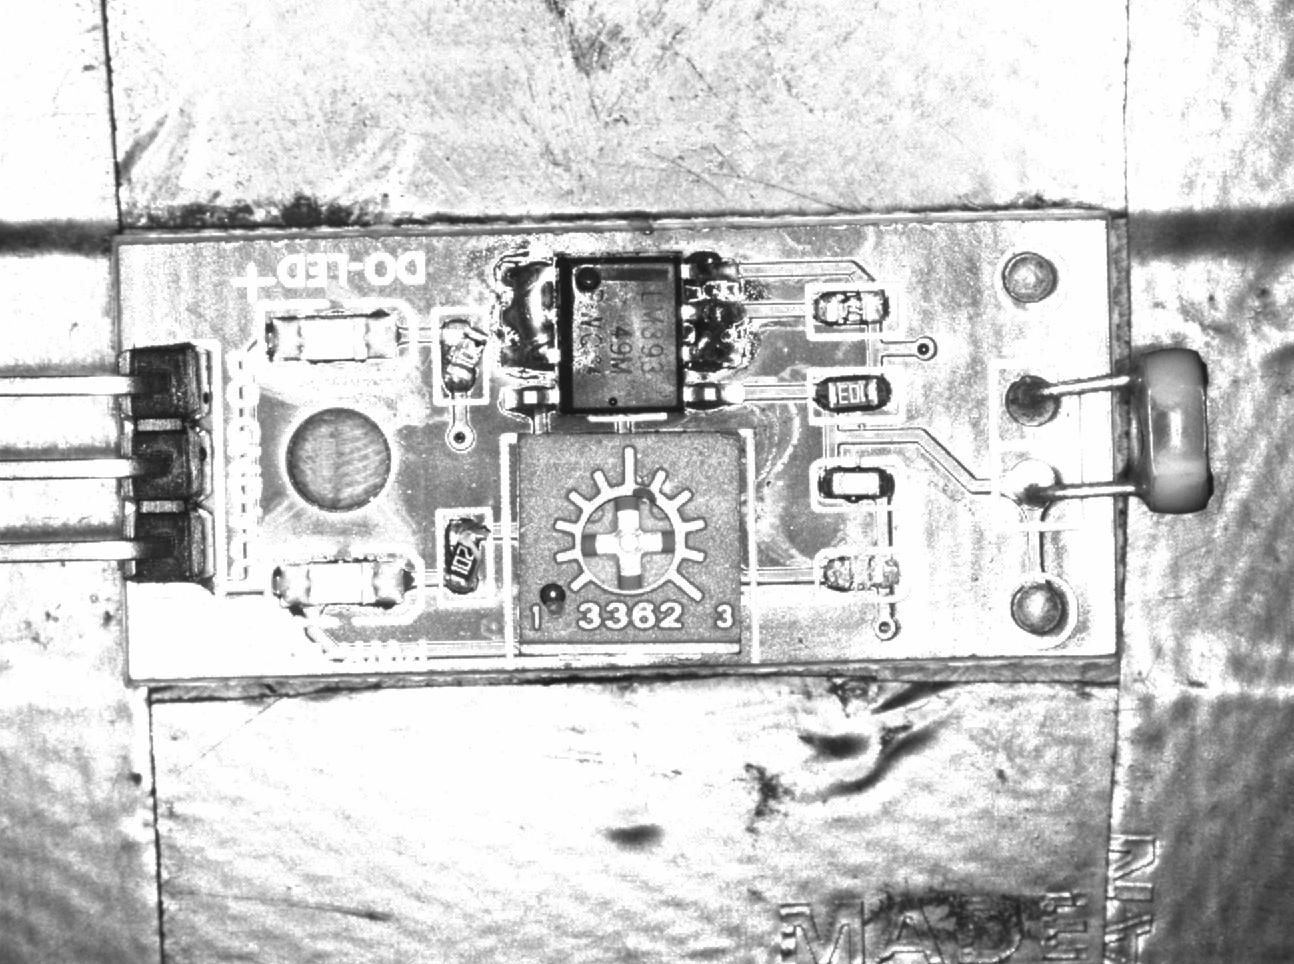bridge: (498, 259, 560, 375), (680, 294, 753, 374)
lifted: (435, 308, 488, 406), (438, 510, 494, 602)
miss: (808, 284, 907, 336), (816, 549, 908, 599)
ok: (809, 370, 904, 419), (814, 459, 901, 509)
